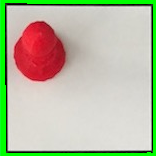Red Pawn: (10, 19, 69, 85)
